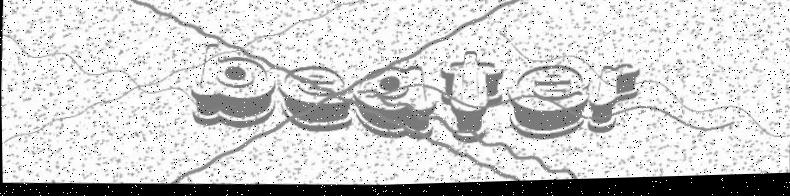a: (351, 63, 439, 144)
b: (187, 41, 280, 133)
e: (504, 64, 590, 144), (276, 64, 354, 136)
r: (587, 65, 641, 139)
t: (435, 52, 505, 146)
